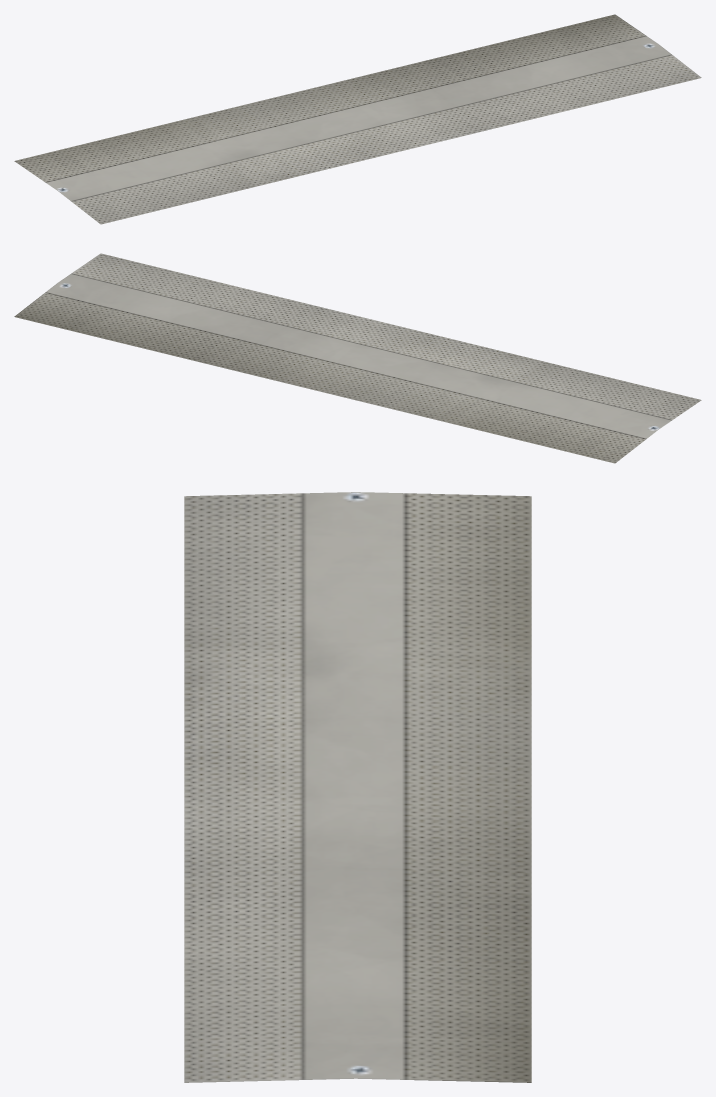
The model's file is Top_Of_Shelf.fbx.
The picture shows the model from 3 angles, top to bottom: view 1: azimuth 30°, elevation 25°; view 2: azimuth 150°, elevation 25°; view 3: azimuth 270°, elevation 25°; orthographic projection. The views are drawn at different scales.
Parts seen in each view (by area): view 1: pPlane5; view 2: pPlane5; view 3: pPlane5.
Boxes of the visible parts, box(x1,y1,x2,y2) form: pPlane5: box(14, 14, 701, 224); pPlane5: box(14, 253, 701, 463); pPlane5: box(184, 492, 531, 1082).
Bounding box in the file's own units: 4.66 × 0.0154 × 1.17.
